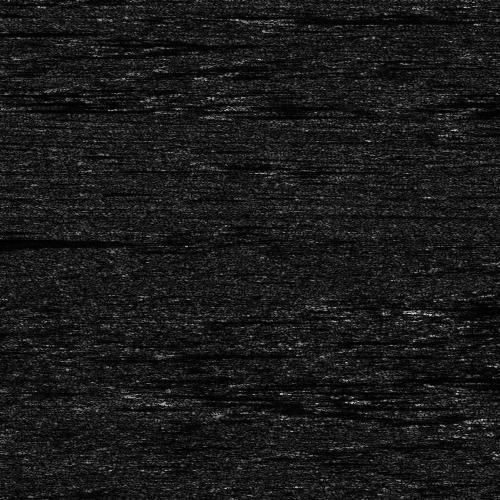object: (238, 13, 311, 22), (444, 412, 500, 423), (341, 373, 414, 380), (394, 304, 447, 313), (232, 379, 285, 386), (221, 101, 252, 110), (64, 403, 117, 408), (0, 104, 35, 111), (216, 111, 257, 116), (313, 403, 344, 408)
shadow: (275, 13, 500, 22), (0, 235, 144, 248), (3, 104, 233, 111), (237, 101, 384, 110), (259, 379, 409, 386), (237, 111, 421, 116), (378, 373, 500, 380), (421, 304, 500, 313), (328, 403, 445, 408), (91, 403, 159, 408), (486, 412, 500, 423)
